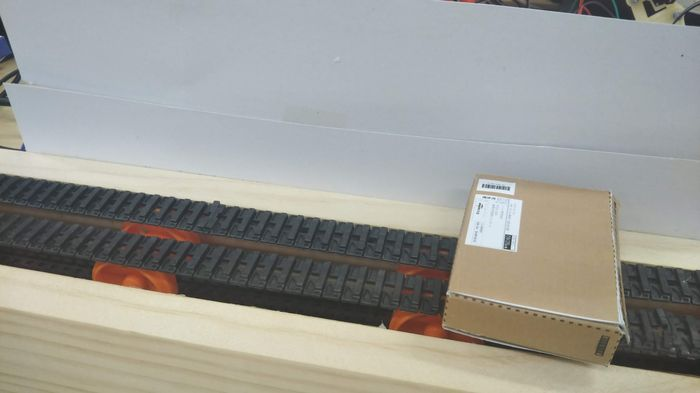box2: (436, 169, 633, 368)
